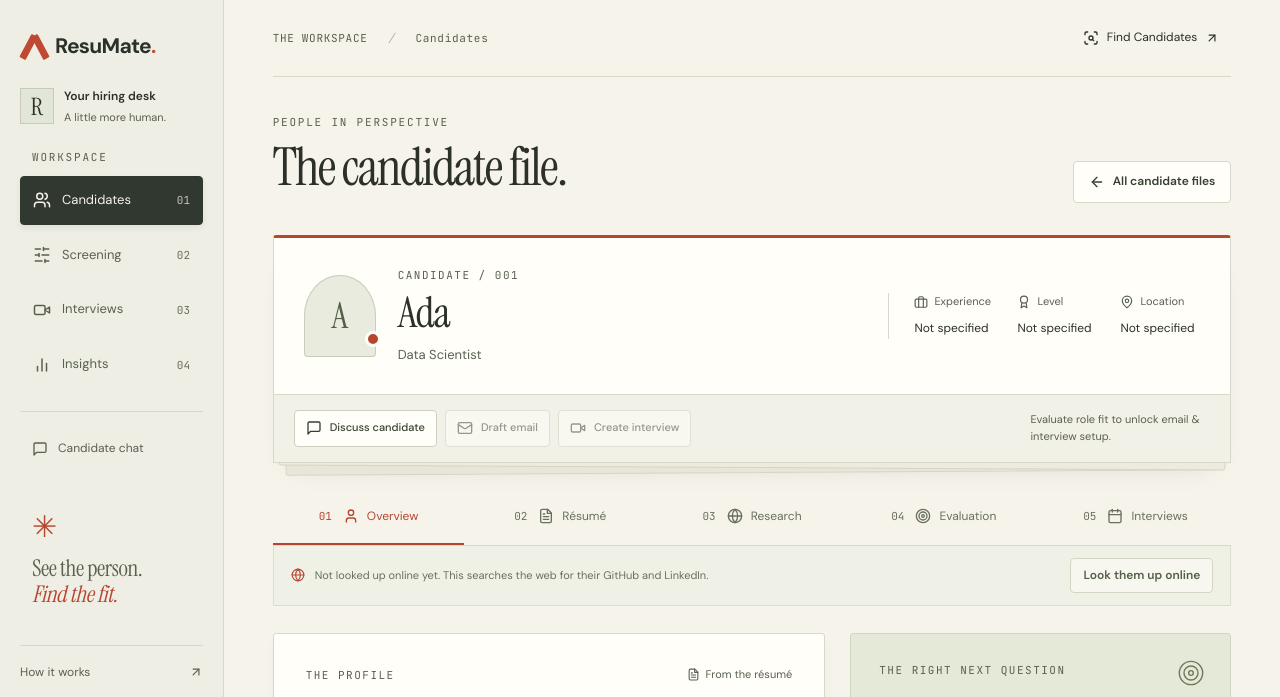
Test: the candidate file's buttons › name their groups of tools where a screen reader reads it
The width and height of the screenshot is (1280, 697).
Click the button "04 Evaluation" at (944, 517), box [848,490,1040,545]
(page scrolled)
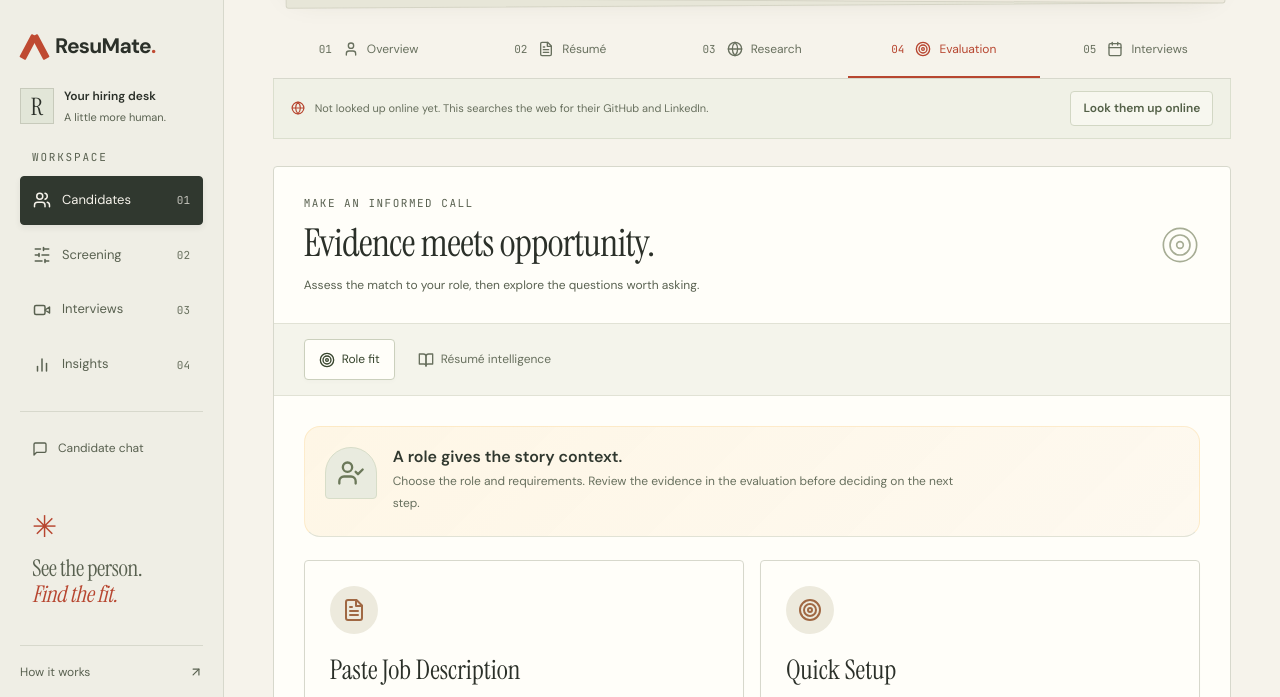
Now the element named "Evaluation tools" is shown, box [274,324,1230,396]
